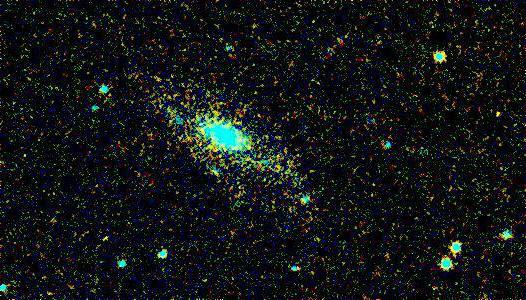star: (483, 96, 513, 126)
